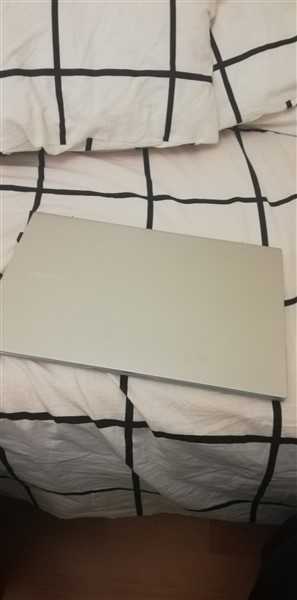laptop: (1, 205, 290, 412)
